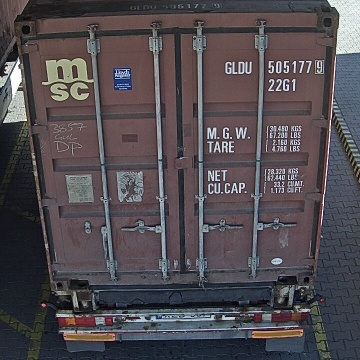serial_id: (225, 59, 324, 74)
